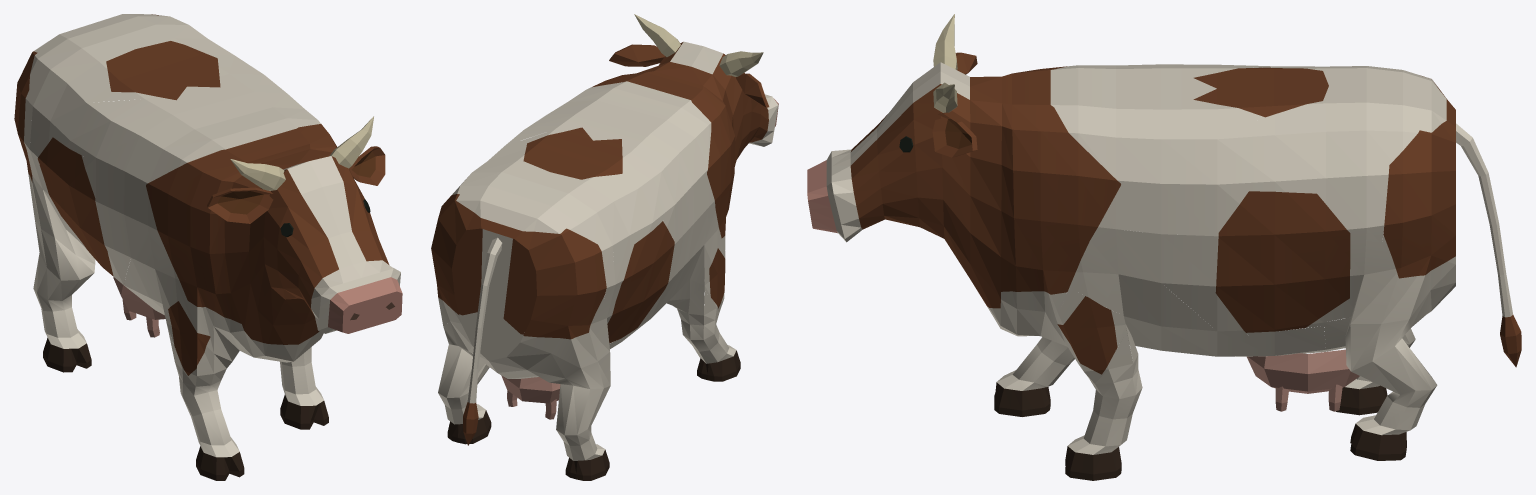
The model's file is cow-base__walk0.glb.
3 renders of one model, left to right at view 1: azimuth 30°, elevation 25°; view 2: azimuth 150°, elevation 25°; view 3: azimuth 270°, elevation 25°, orthographic. The views are drawn at different scales.
Visible parts, largest first — view 1: cow-base__walk0; view 2: cow-base__walk0; view 3: cow-base__walk0.
Boxes of the visible parts, x1,y1,x2,y2 form: cow-base__walk0: [14, 14, 402, 480]; cow-base__walk0: [431, 14, 778, 480]; cow-base__walk0: [807, 14, 1521, 480].
Bounding box in the file's own units: 0.8398 × 1.43 × 2.37.
